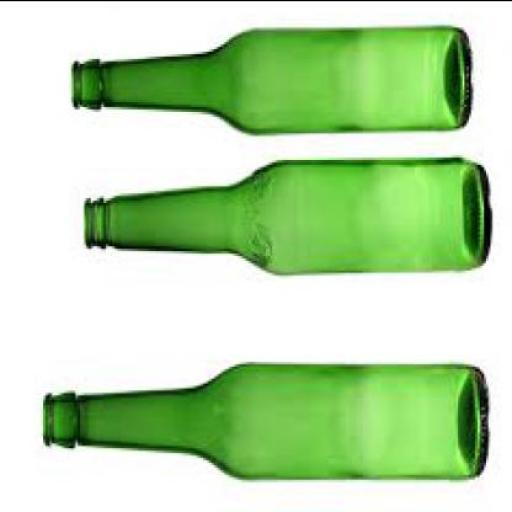glass: (41, 365, 486, 483), (80, 158, 489, 279), (70, 26, 470, 135)
